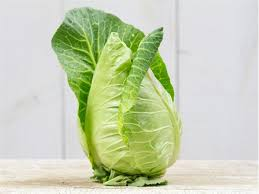cabbage: (89, 29, 186, 188)
